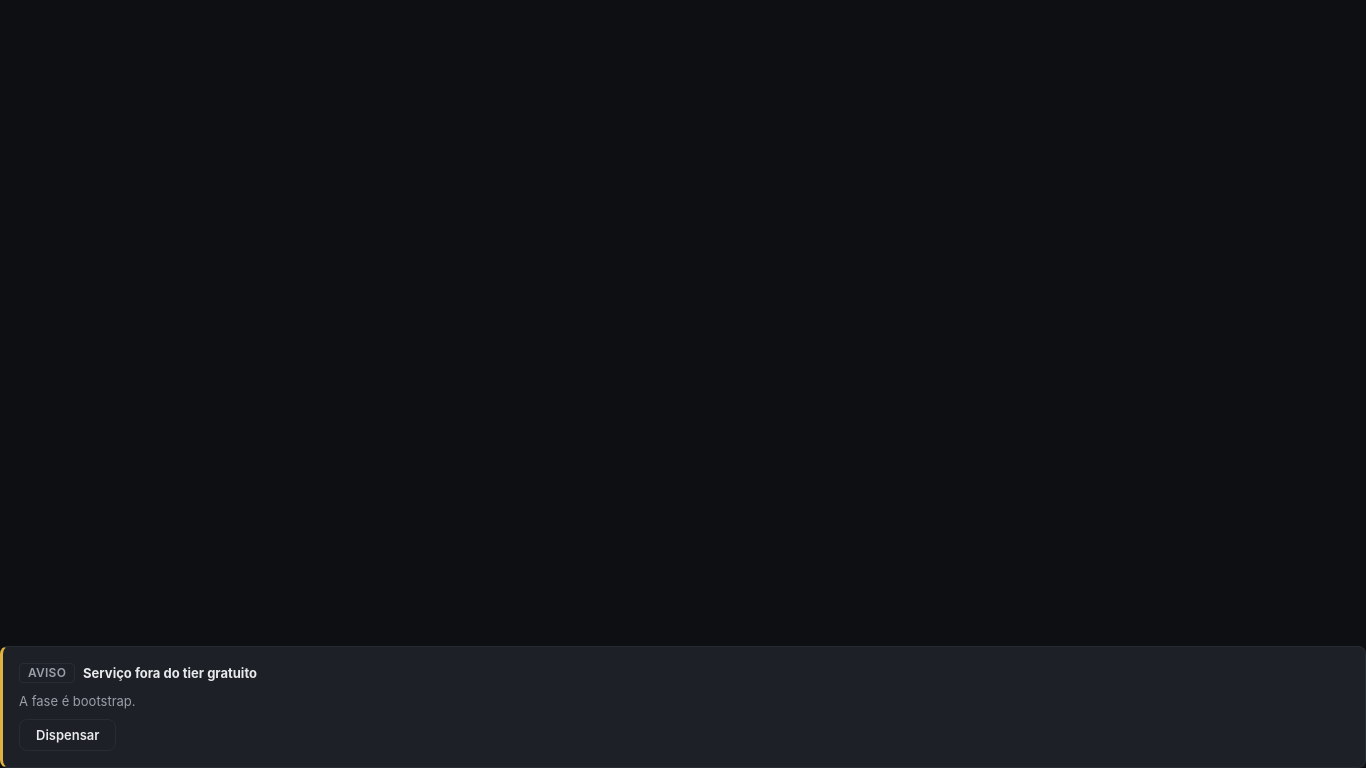
it: AvisoRegra › erro do servidor aparece junto do campo de justificativa
The width and height of the screenshot is (1366, 768).
(page scrolled)
Click the button "Dispensar" at x=68, y=735, box [19,719,116,751]
(page scrolled)
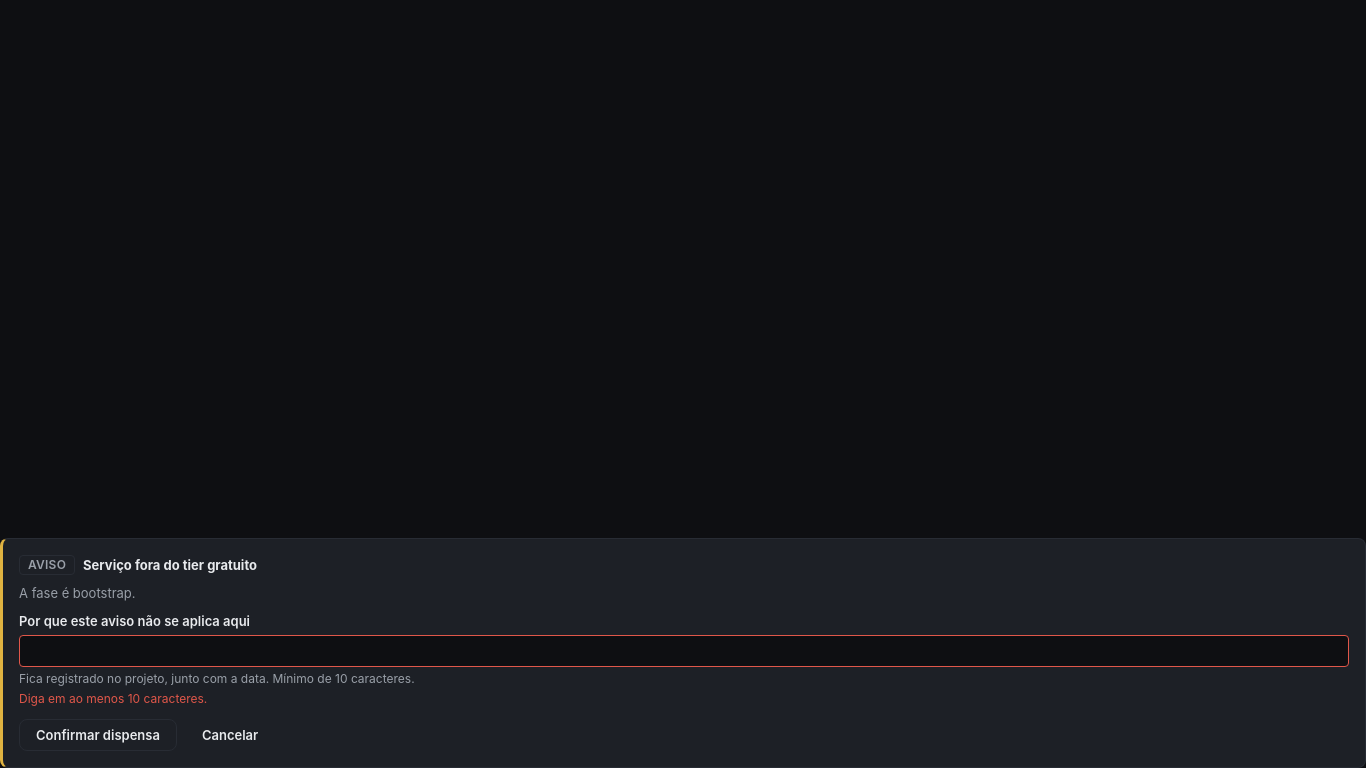
Now the message reads "Diga em ao menos 10 caracteres.", box [19,691,207,706]
